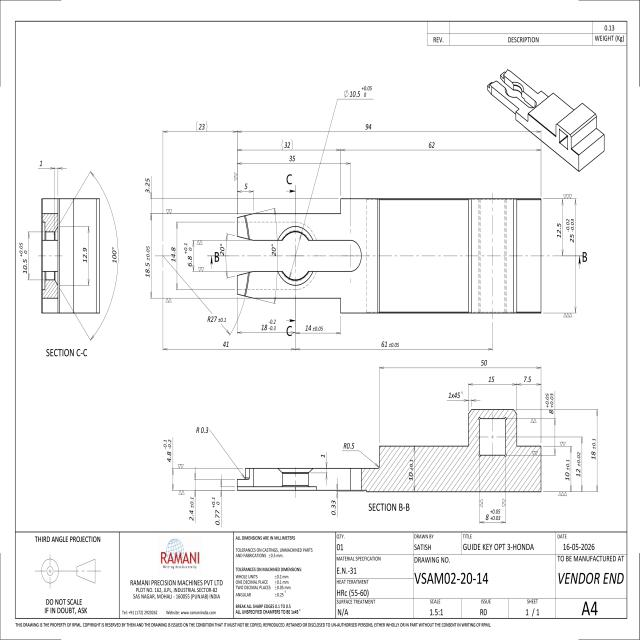dimension: (16, 242, 30, 276), (343, 84, 373, 99), (211, 495, 221, 527), (563, 217, 575, 242), (484, 508, 502, 522), (163, 436, 172, 464), (544, 392, 554, 416), (260, 318, 277, 332), (188, 496, 196, 524), (206, 314, 228, 324), (144, 243, 150, 279), (108, 246, 118, 267), (184, 242, 192, 268), (575, 449, 582, 478), (380, 339, 400, 349), (564, 457, 572, 481), (304, 323, 324, 332), (407, 457, 414, 482), (590, 437, 597, 461), (448, 390, 464, 400), (195, 425, 209, 436), (195, 121, 208, 132), (281, 139, 293, 150), (331, 496, 337, 518), (82, 243, 88, 264), (555, 221, 562, 239), (342, 442, 355, 451), (170, 246, 176, 264), (144, 177, 150, 194), (219, 240, 225, 257), (522, 374, 532, 384), (270, 242, 276, 258), (479, 358, 488, 367), (428, 140, 436, 150), (488, 374, 496, 384), (288, 154, 296, 163), (364, 122, 372, 131), (222, 339, 230, 348), (244, 181, 250, 191), (37, 159, 44, 167), (320, 452, 326, 459)
